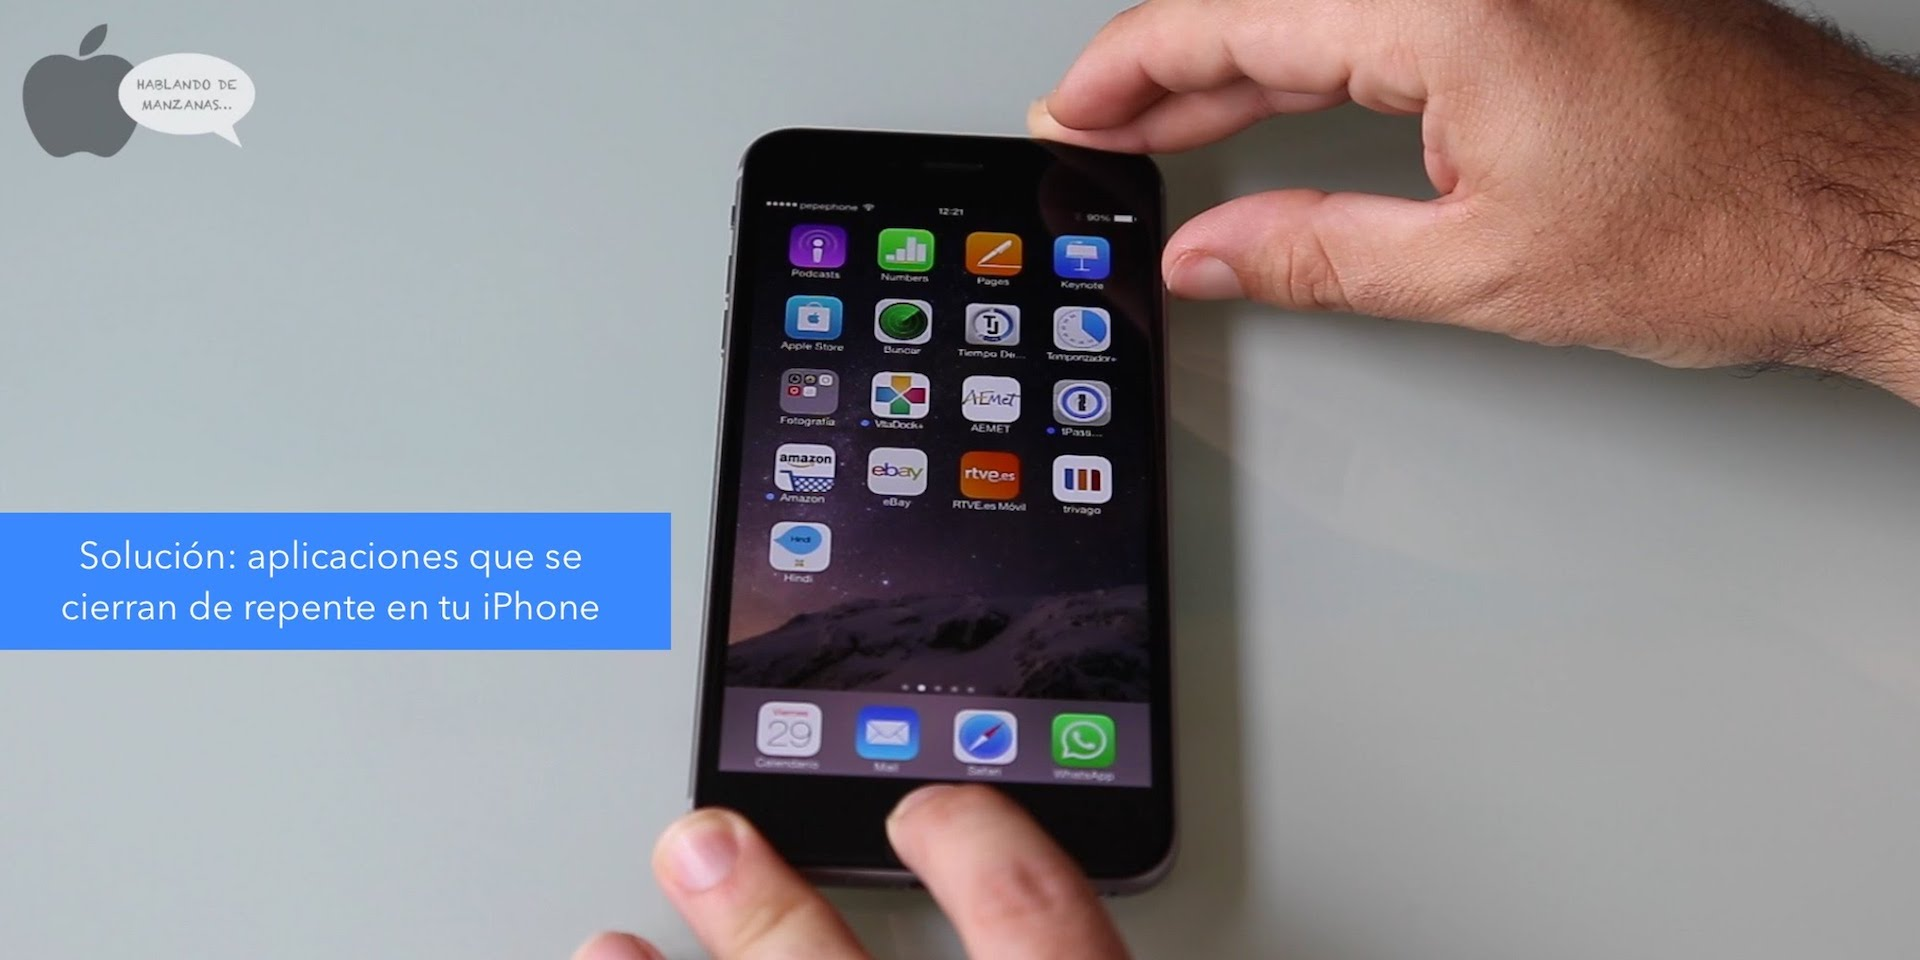smartphone: (680, 124, 1173, 902)
